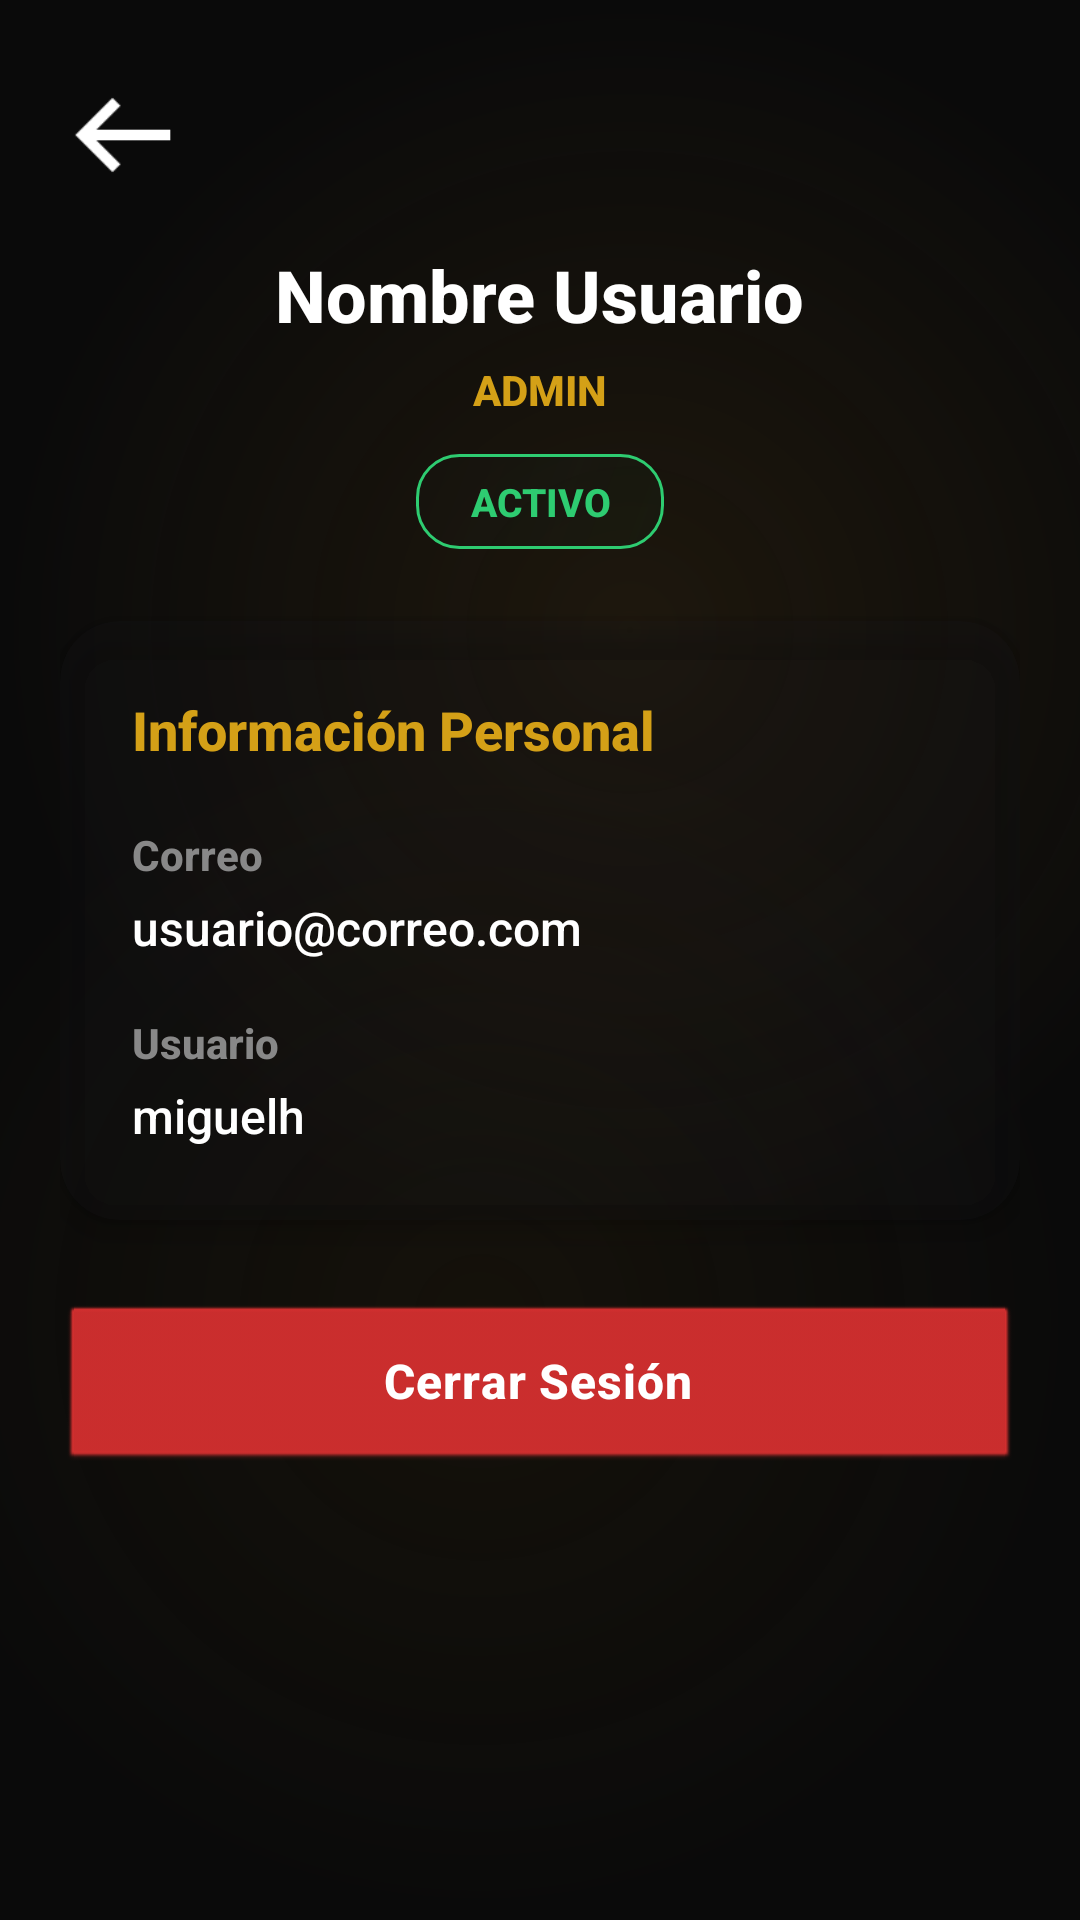

Point at icon controls on the screen. Image size 1080 × 1920, points as point (x, y).
volver: point (123, 135)
